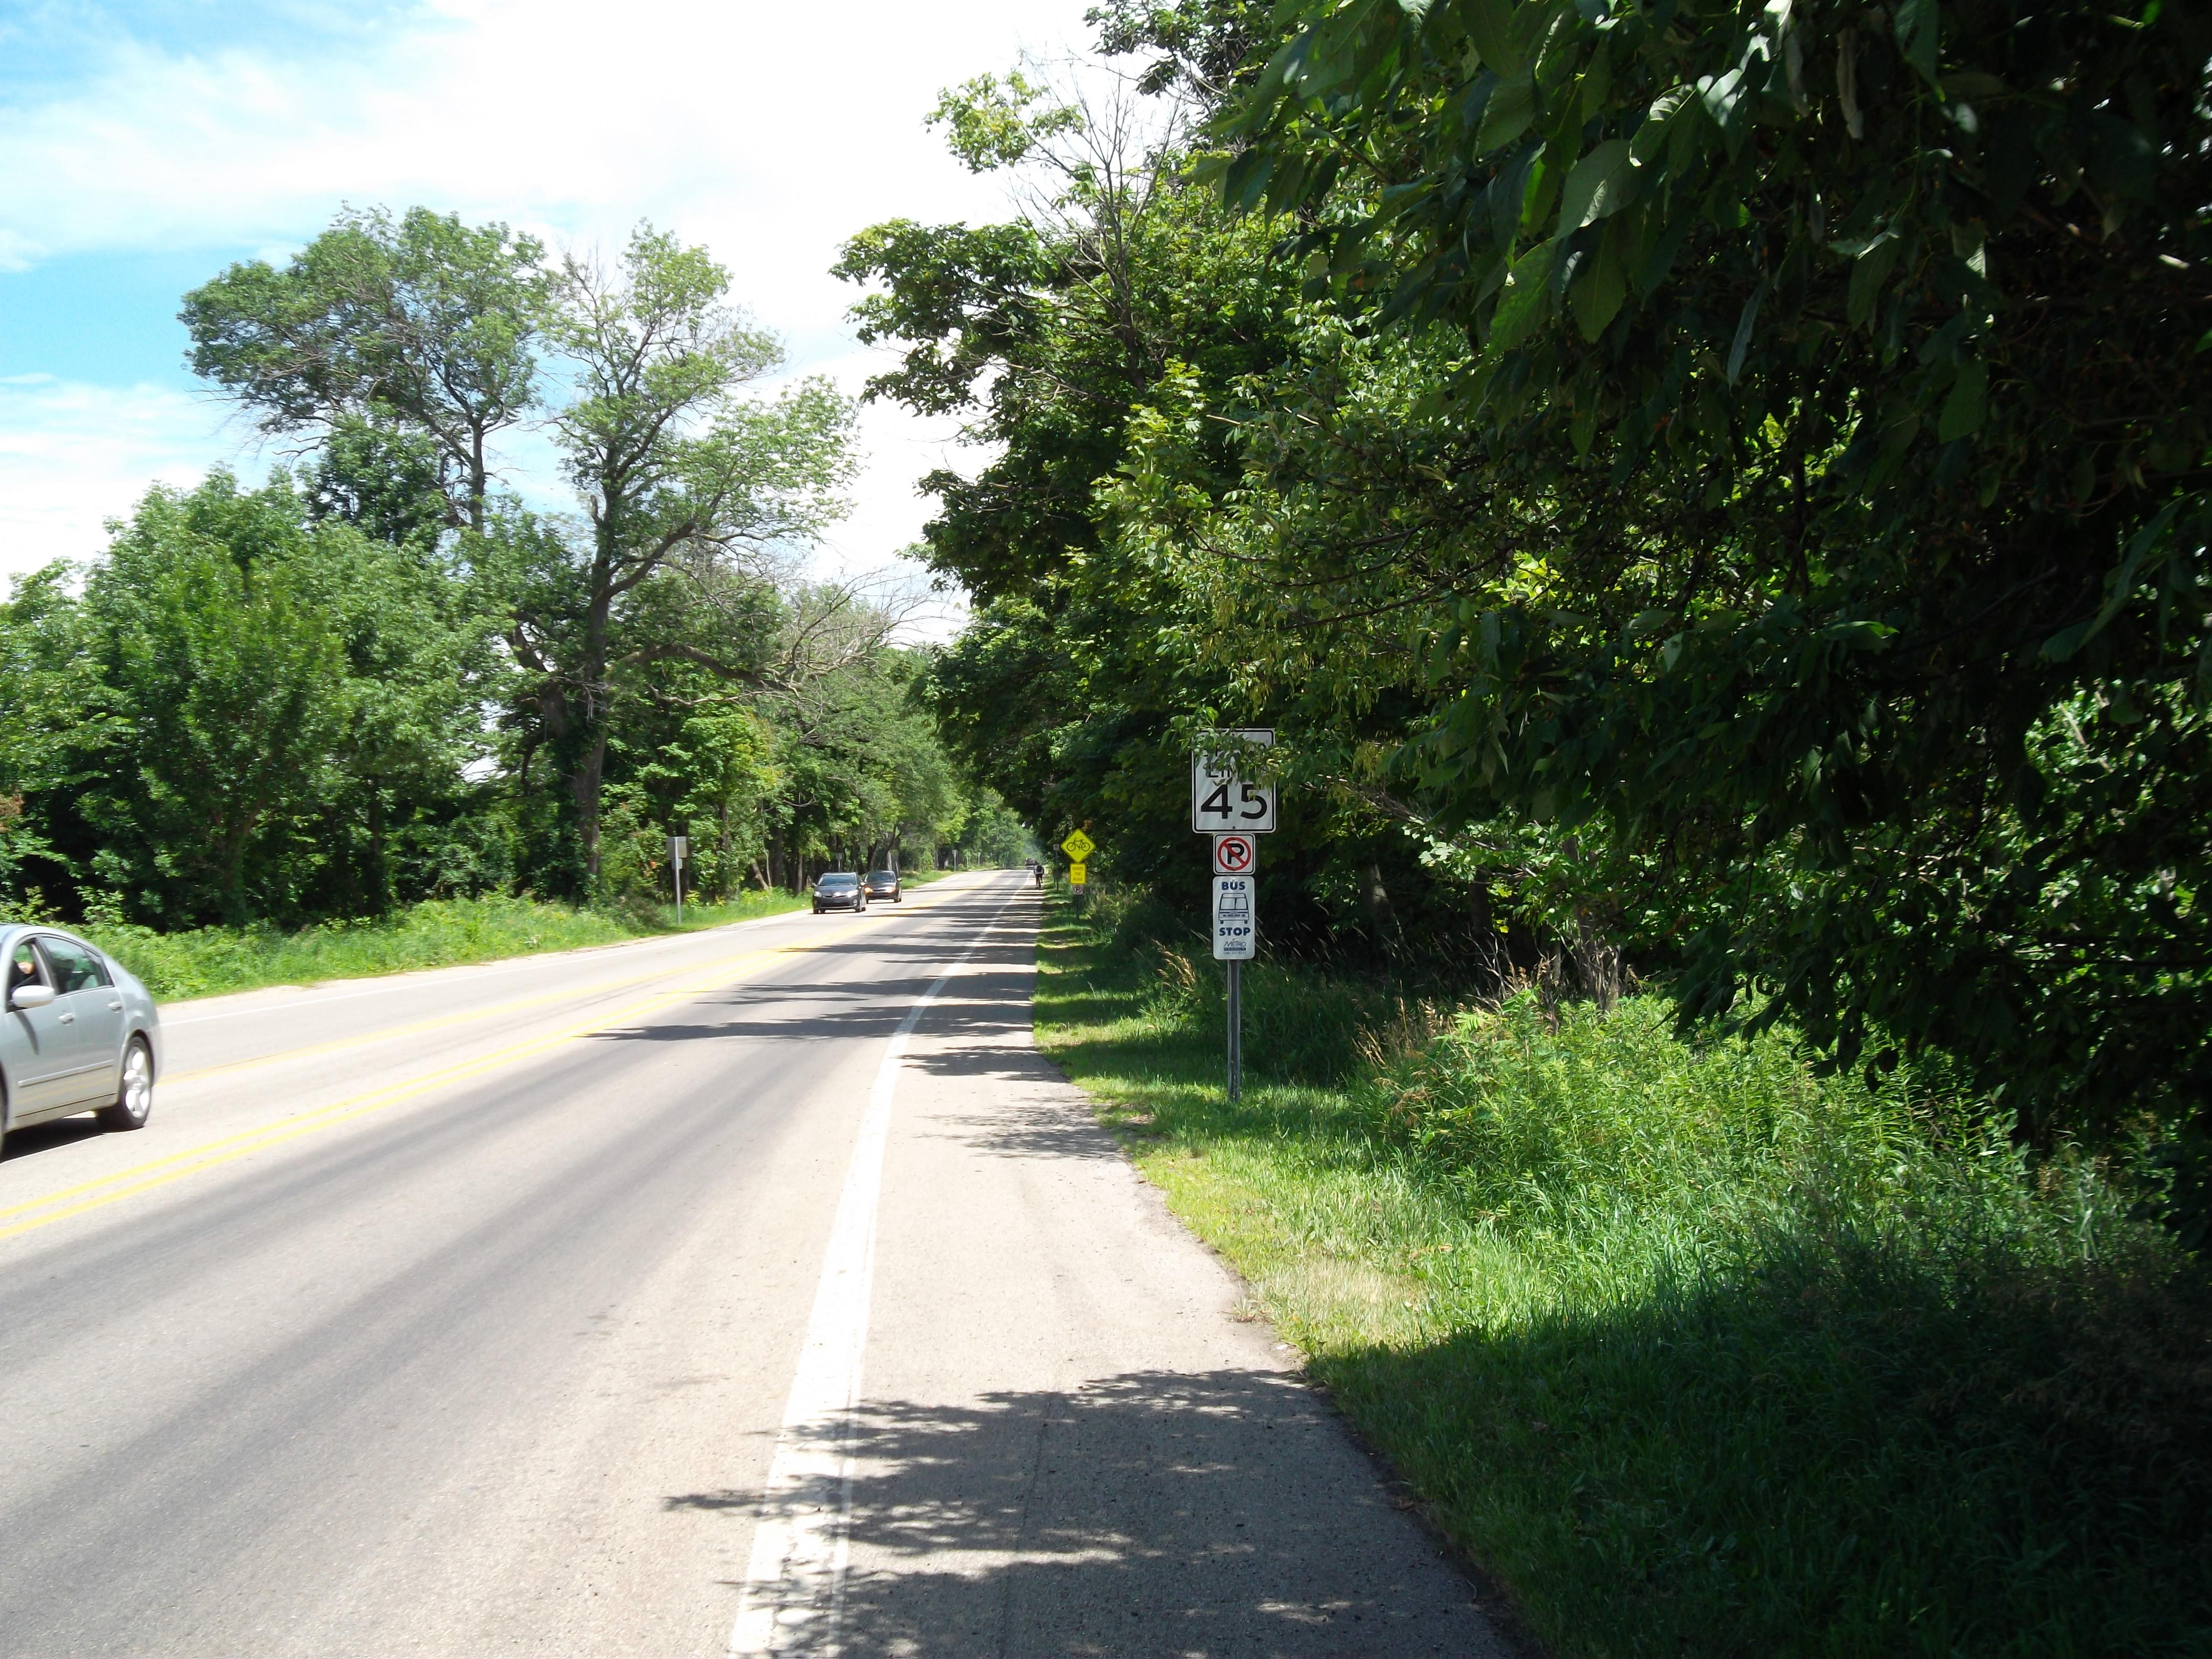regulatory: (1188, 728, 1282, 835), (1211, 835, 1258, 875)
warning: (1061, 828, 1097, 863), (1069, 864, 1087, 885)
